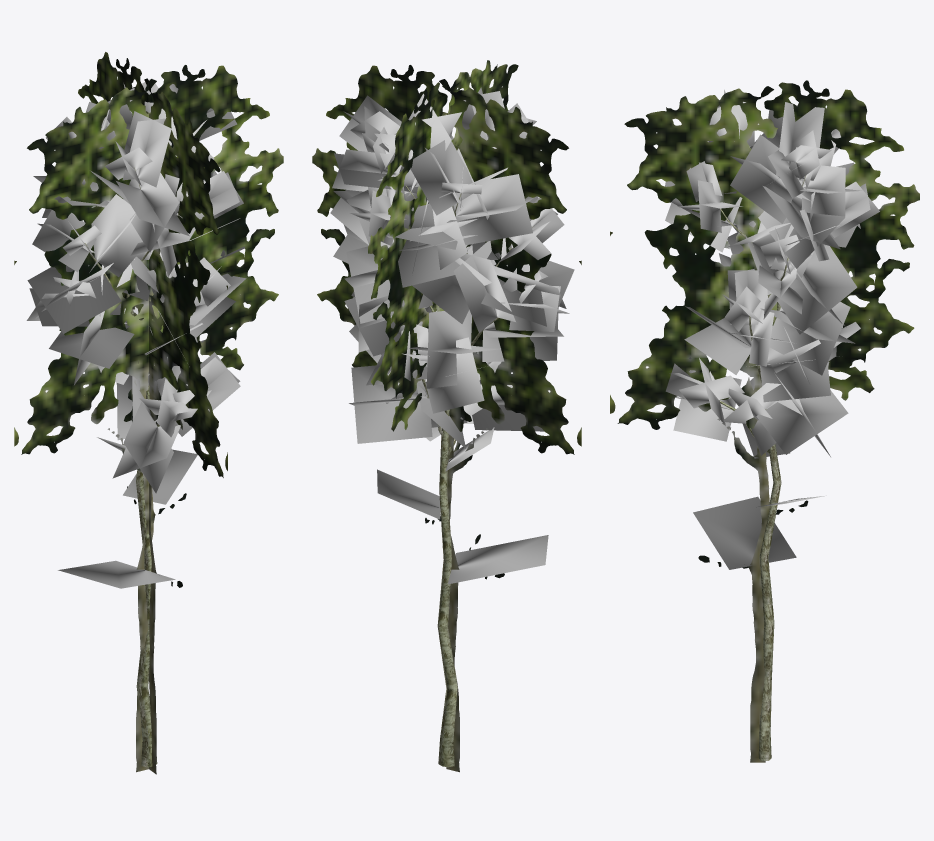
The model's file is Tree-Beech0A-mobile.fbx.
3 views of the same model, side by side, from view 1: azimuth 30°, elevation 25°; view 2: azimuth 150°, elevation 25°; view 3: azimuth 270°, elevation 25° (orthographic).
Visible parts, largest first — view 1: Billboard-BeechA, Tree-Beech0A-mobile_LOD0; view 2: Tree-Beech0A-mobile_LOD0, Billboard-BeechA; view 3: Tree-Beech0A-mobile_LOD0, Billboard-BeechA.
Boxes of the visible parts, x1,y1,x2,y2 form: Billboard-BeechA: (14, 52, 283, 774); Tree-Beech0A-mobile_LOD0: (26, 78, 246, 767); Tree-Beech0A-mobile_LOD0: (330, 87, 574, 767); Billboard-BeechA: (312, 60, 581, 772); Tree-Beech0A-mobile_LOD0: (665, 89, 879, 760); Billboard-BeechA: (610, 80, 919, 762).
Size of what is drawn, in the model's own units: 1071 by 2649 by 1088.
